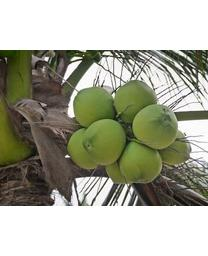coconut: (132, 103, 178, 150), (114, 81, 159, 127), (82, 119, 125, 165), (119, 139, 162, 184), (73, 86, 118, 125)
